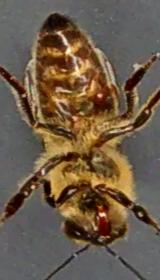varroa_mite: (81, 74, 119, 120)
